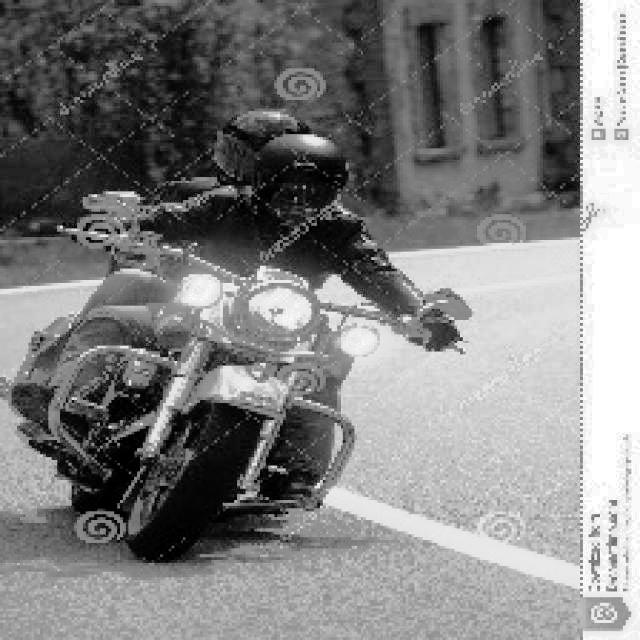Bike: (54, 235, 356, 561)
